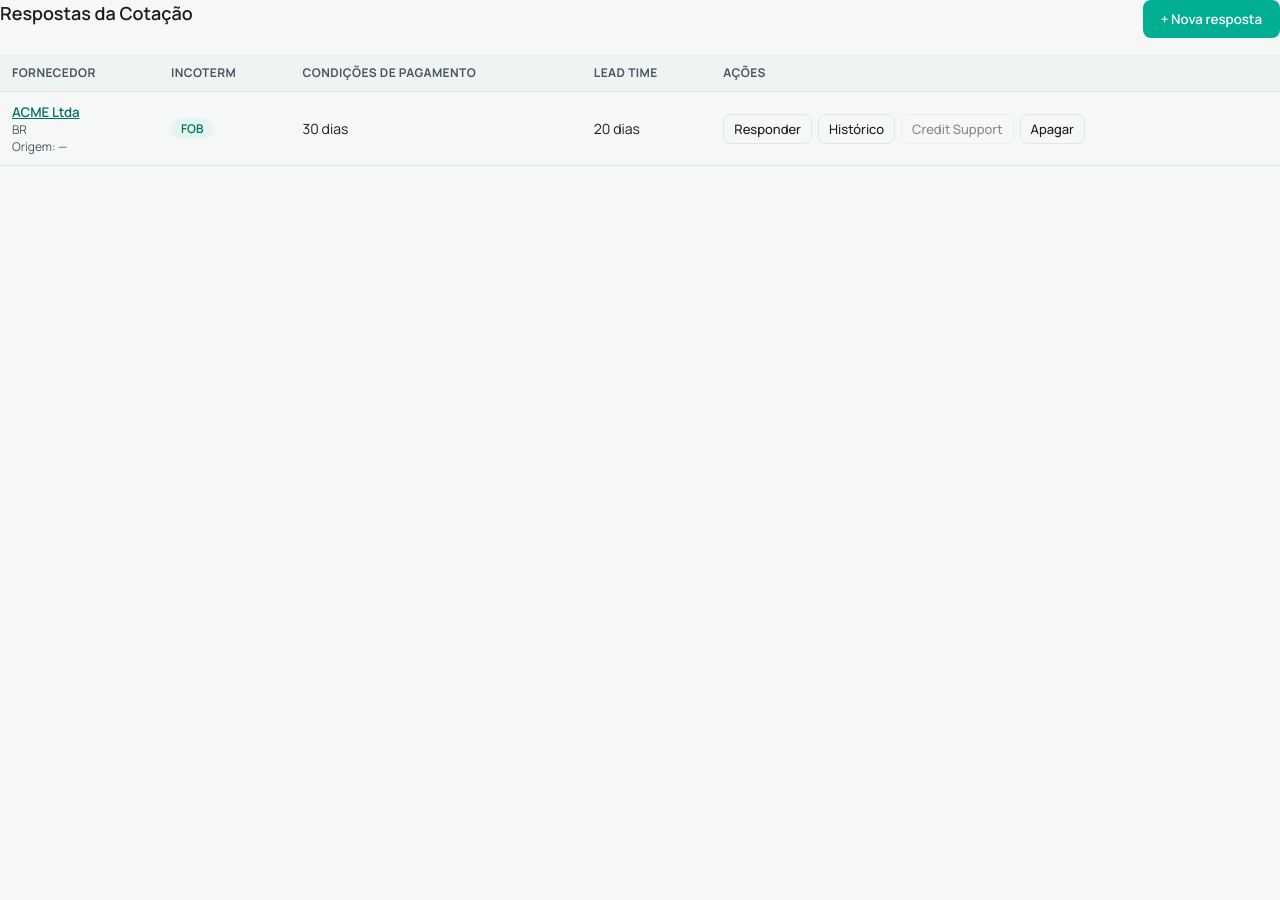
Test case: RespostasTab › 2. "+ Nova resposta" abre o modal A
The image size is (1280, 900).
Check: the button "ACME Ltda" is shown, box [12,103,80,121]
Click the button "+ Nova resposta": [1211, 19] box [1143,0,1279,38]
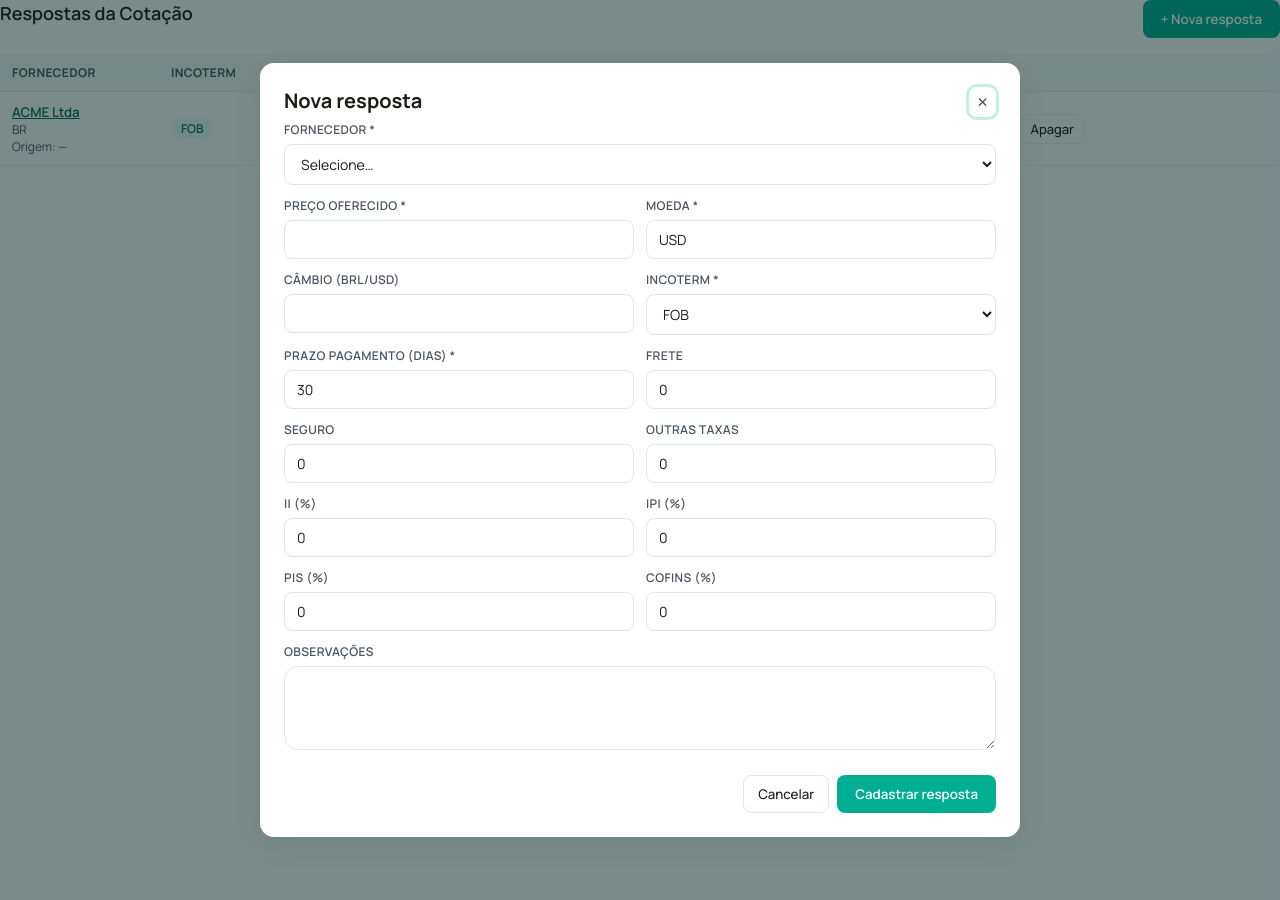
Check: the heading "Nova resposta" is shown, box [284,87,422,114]
